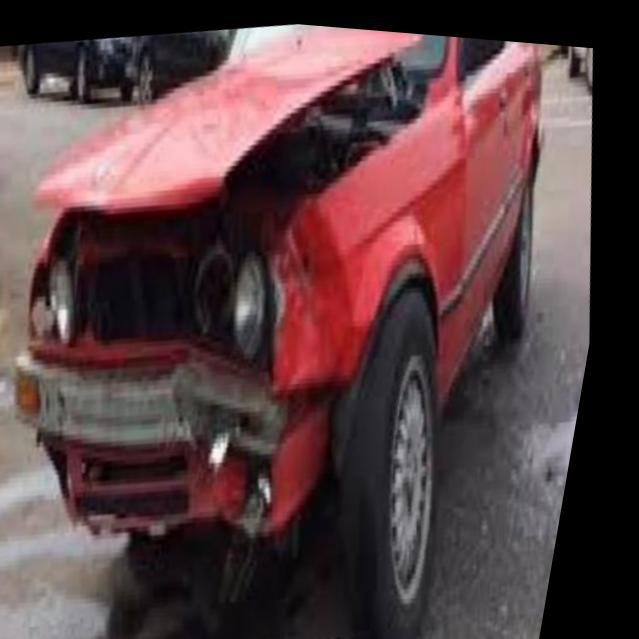dislocated part: (45, 22, 430, 512)
